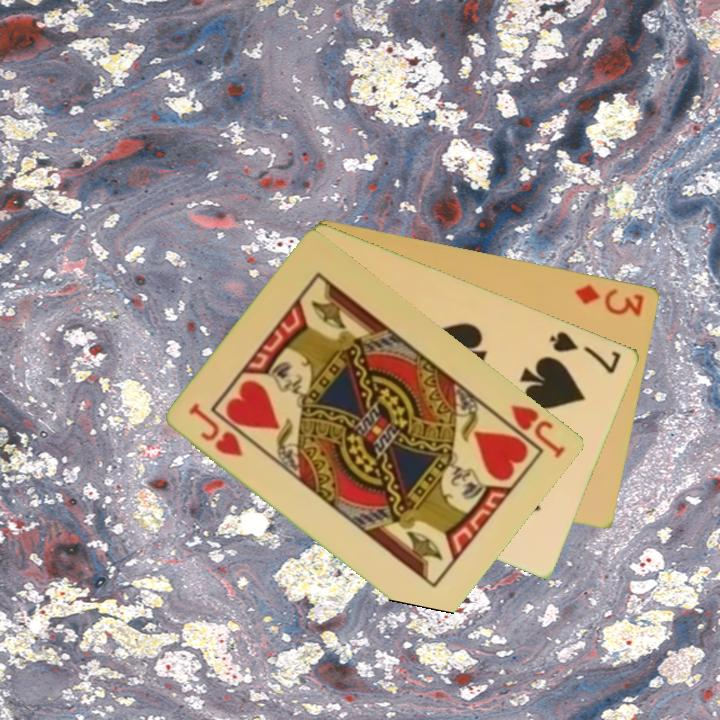3d: (572, 280, 647, 319)
7s: (546, 327, 625, 377)
Jh: (493, 401, 569, 462), (186, 400, 246, 460)
